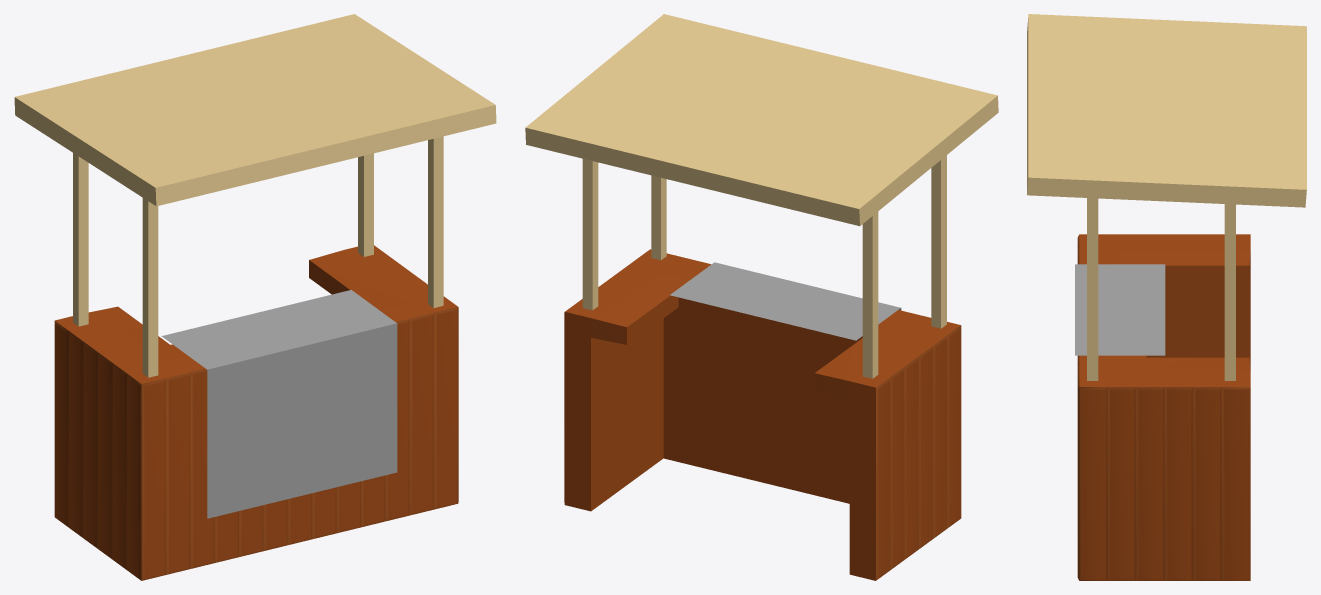
File: StallBlank.fbx
The picture shows the model from 3 angles, left to right: view 1: azimuth 30°, elevation 25°; view 2: azimuth 150°, elevation 25°; view 3: azimuth 270°, elevation 25°; orthographic projection.
Parts seen in each view (by area): view 1: stall1, sign; view 2: stall1, sign; view 3: stall1, sign.
Boxes of the visible parts, bbox=[...] form: stall1: bbox=[14, 14, 496, 580]; sign: bbox=[161, 290, 397, 518]; stall1: bbox=[525, 14, 998, 580]; sign: bbox=[670, 262, 901, 340]; stall1: bbox=[1027, 14, 1306, 580]; sign: bbox=[1075, 264, 1165, 355].
Bounding box in the file's own units: 188 × 219 × 136.
